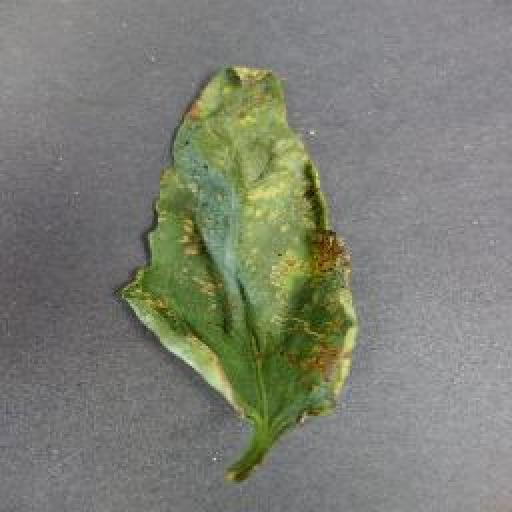Bacterial Spot: (113, 63, 363, 433)
